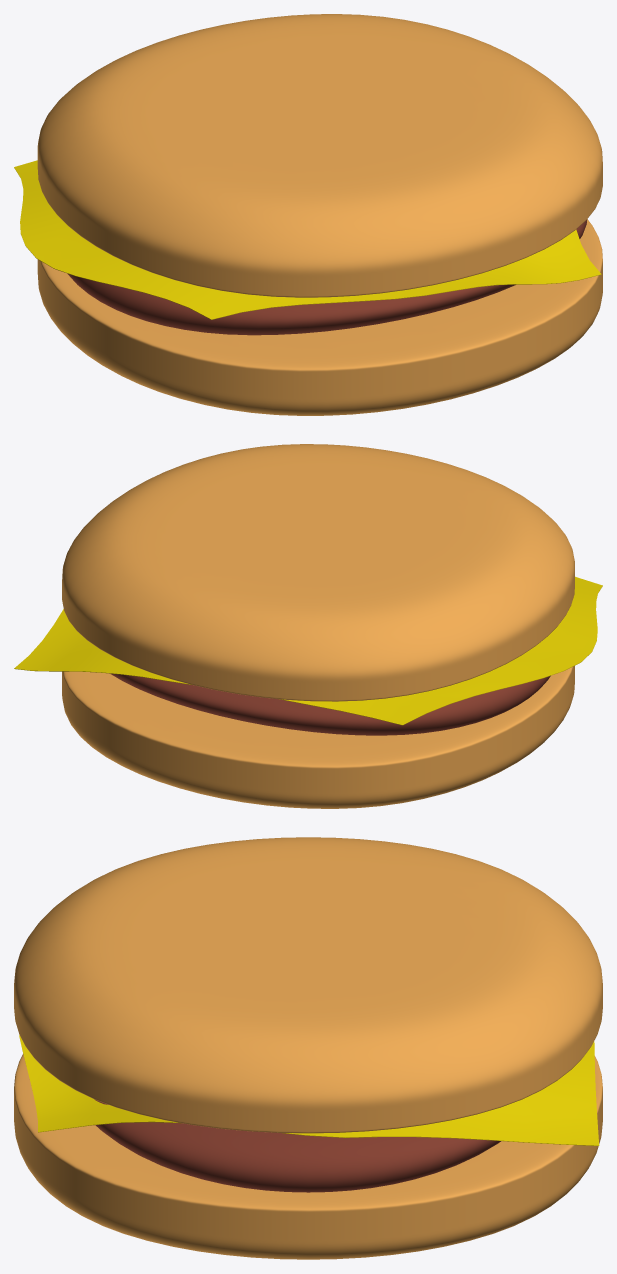
The model's file is hamburger.glb.
The picture shows the model from 3 angles, top to bottom: view 1: azimuth 30°, elevation 25°; view 2: azimuth 150°, elevation 25°; view 3: azimuth 270°, elevation 25°; orthographic projection. The views are drawn at different scales.
Parts seen in each view (by area): view 1: Cube.002, Cube, Plane, Cube.001; view 2: Cube.002, Cube, Plane, Cube.001; view 3: Cube.002, Cube, Cube.001, Plane.
Boxes of the visible parts, bbox=[...] form: Cube.002: bbox=[37, 14, 602, 297]; Cube: bbox=[37, 219, 602, 415]; Plane: bbox=[14, 160, 601, 319]; Cube.001: bbox=[68, 219, 587, 335]; Cube.002: bbox=[62, 444, 574, 701]; Cube: bbox=[62, 666, 574, 808]; Plane: bbox=[14, 576, 602, 725]; Cube.001: bbox=[110, 673, 550, 735]; Cube.002: bbox=[14, 837, 602, 1133]; Cube: bbox=[14, 1054, 602, 1259]; Cube.001: bbox=[94, 1099, 501, 1192]; Plane: bbox=[19, 1035, 599, 1145].
Size of the model in its own units: 9.63 by 3.83 by 8.79.
